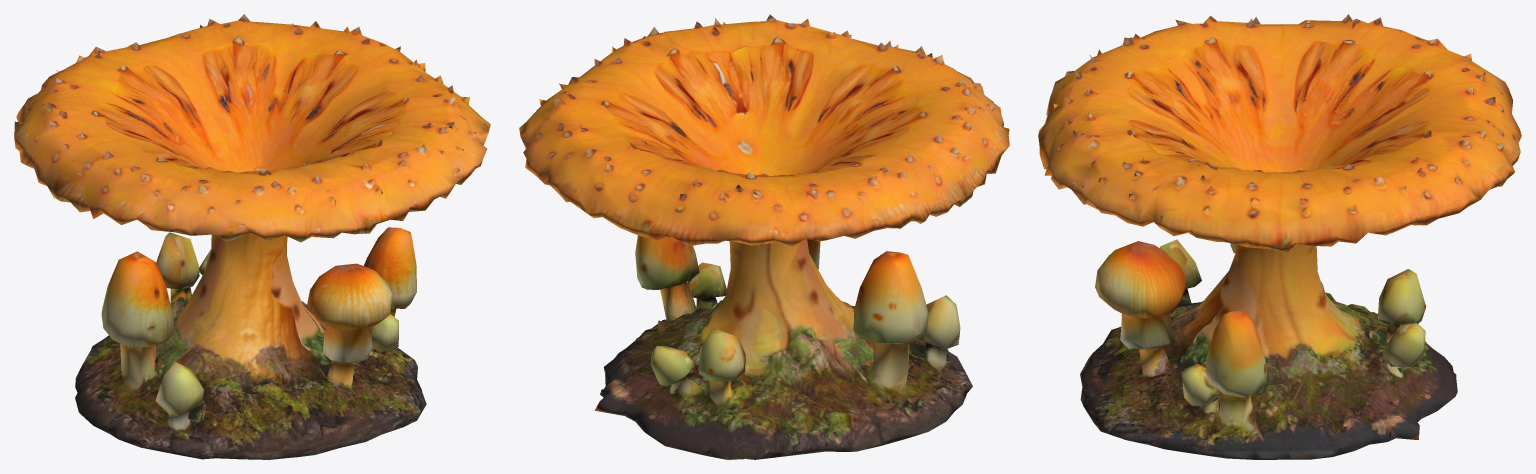
The model's file is mush-01-jackolantern.glb.
The picture shows the model from 3 angles, left to right: view 1: azimuth 30°, elevation 25°; view 2: azimuth 150°, elevation 25°; view 3: azimuth 270°, elevation 25°; orthographic projection. The views are drawn at different scales.
Parts seen in each view (by area): view 1: Mesh1.0; view 2: Mesh1.0; view 3: Mesh1.0.
Boxes of the visible parts, bbox=[...] form: Mesh1.0: bbox=[14, 14, 490, 459]; Mesh1.0: bbox=[519, 14, 1009, 459]; Mesh1.0: bbox=[1038, 14, 1521, 459].
Bounding box in the file's own units: 1.91 × 1.28 × 1.91.
1 material, 1 textured.
